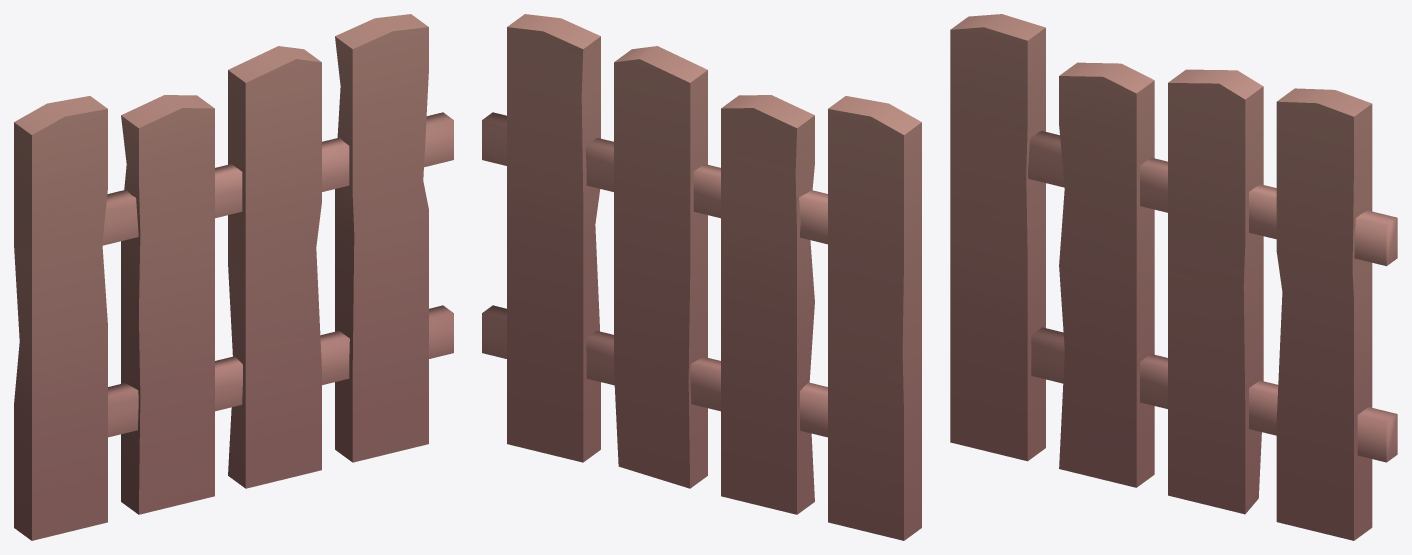
Rendered from Fence_Frontal1.glb.
3 renders of one model, left to right at view 1: azimuth 30°, elevation 25°; view 2: azimuth 150°, elevation 25°; view 3: azimuth 330°, elevation 25°, orthographic.
Visible parts, largest first — view 1: Fence_Frontal1; view 2: Fence_Frontal1; view 3: Fence_Frontal1.
Boxes of the visible parts, left/top/right/bottom form: Fence_Frontal1: left=14, top=14, right=453, bottom=540; Fence_Frontal1: left=482, top=14, right=921, bottom=540; Fence_Frontal1: left=950, top=14, right=1397, bottom=540.
Size of the model in its own units: 0.4671 by 0.4421 by 0.034.
Materials: 1 (1 with a texture image).
